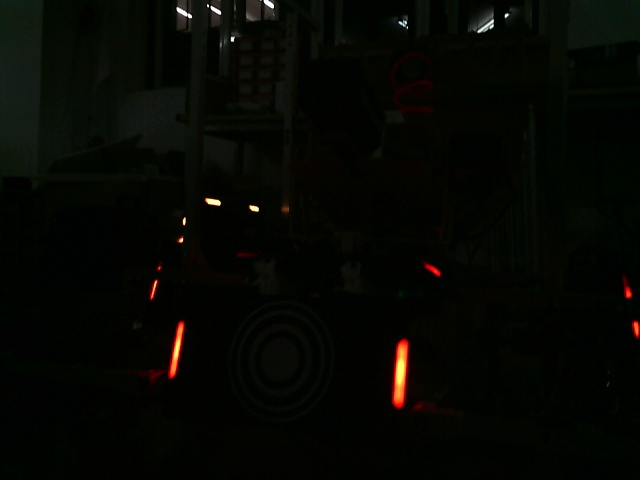lamp: (390, 338, 410, 409), (167, 317, 186, 382)
